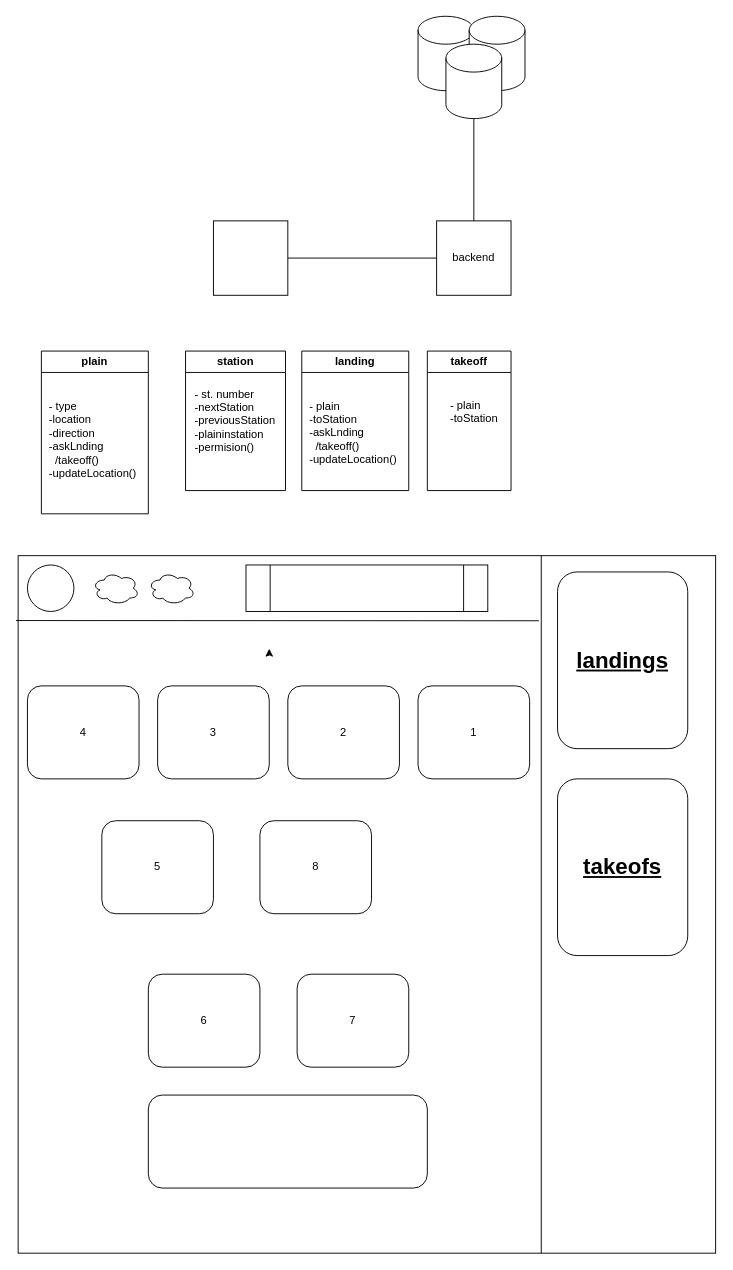
This 733x1270 diagram has some shape labels left out. The shapes that lost their labels are listed below. From the top down, each one's centre as x and y in pixels, then its label:
At (x=473, y=81): "database".
At (x=250, y=257): "frontend".
